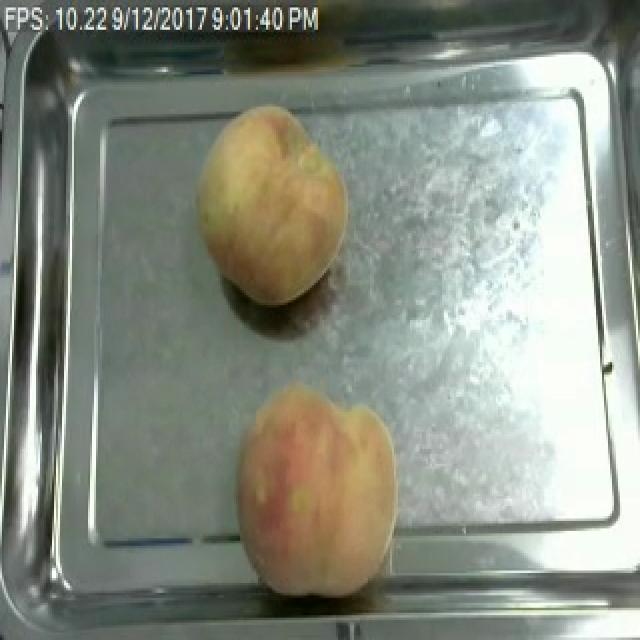Fruit: (230, 374, 412, 608), (188, 97, 356, 310)
